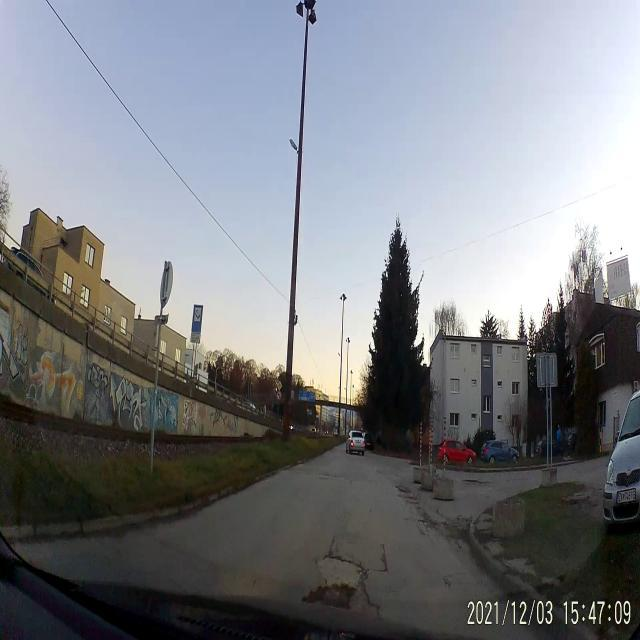Pothole: (314, 552, 370, 583), (304, 582, 364, 608), (463, 478, 491, 488)
